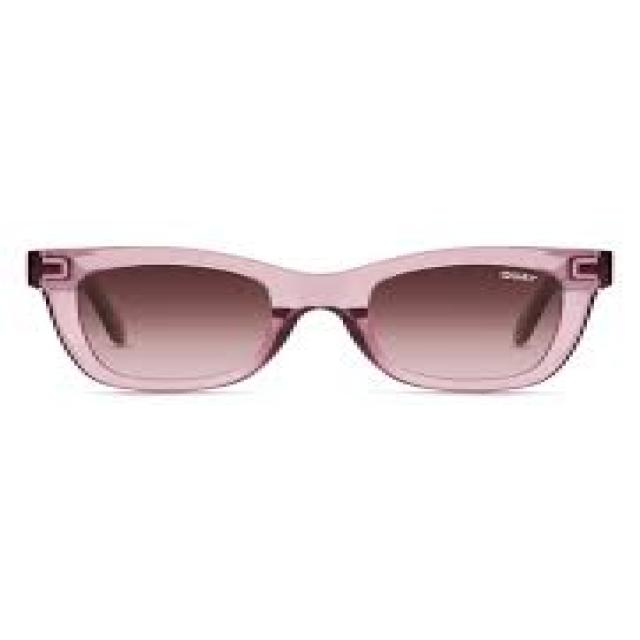sunglasses: (21, 246, 605, 407)
